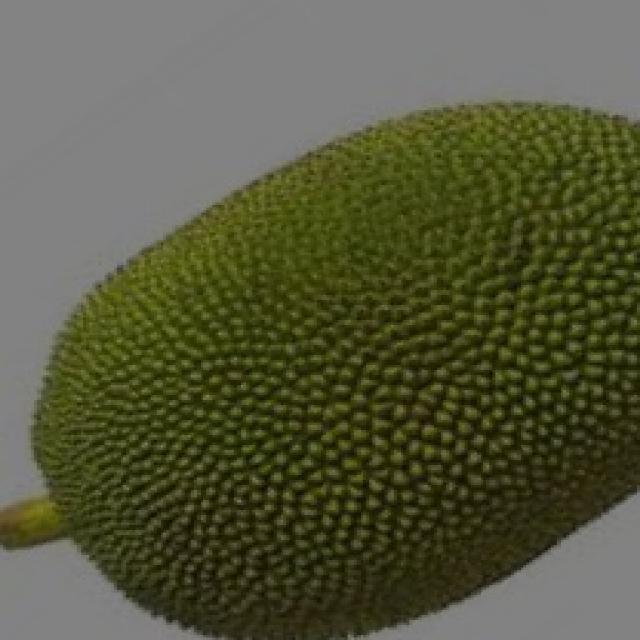Fruit: (6, 217, 400, 635), (227, 77, 640, 357)
